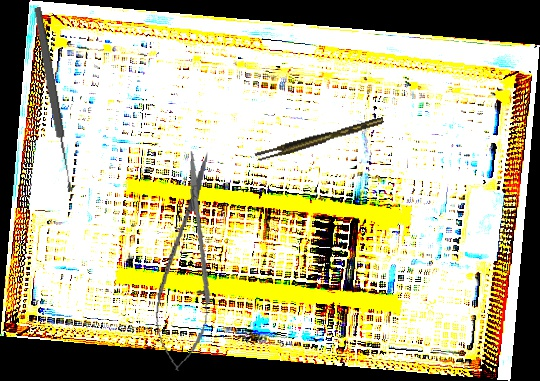Micro Scissor: (148, 148, 228, 374)
Surgical Spoon: (31, 6, 76, 193)
Tissue Forceps: (253, 117, 386, 162)
